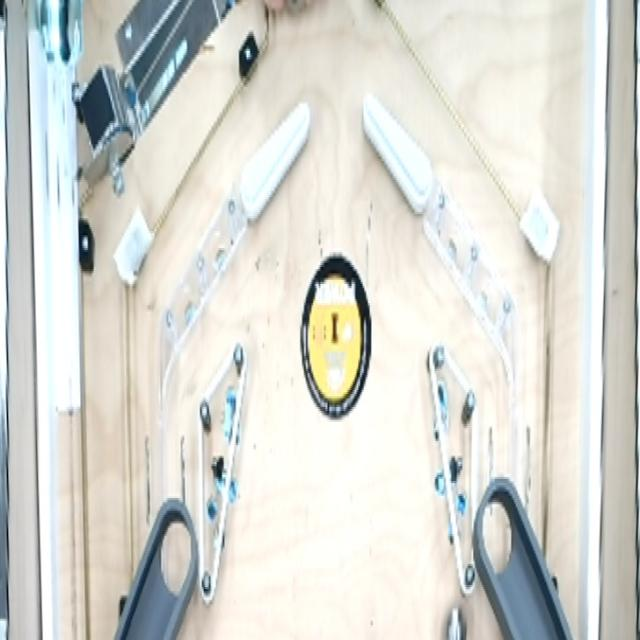ball: (435, 597, 475, 640)
flipper-left: (358, 87, 438, 228)
flipper-right: (238, 89, 315, 238)
